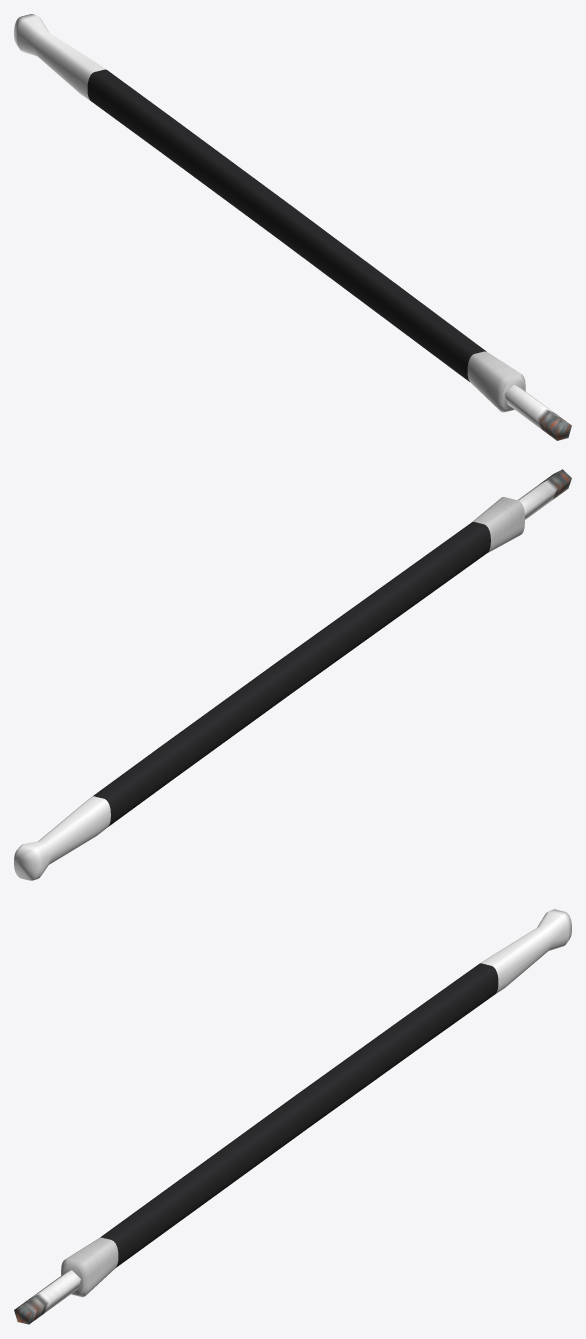
Rendered from WorldItem_AuthenticCigaretteHolder.fbx.
3 renders of one model, top to bottom at view 1: azimuth 30°, elevation 25°; view 2: azimuth 150°, elevation 25°; view 3: azimuth 330°, elevation 25°, orthographic. The views are drawn at different scales.
Visible parts, largest first — view 1: Cube; view 2: Cube; view 3: Cube.
Boxes of the visible parts, x1,y1,x2,y2 form: Cube: (14, 14, 571, 440); Cube: (14, 469, 571, 880); Cube: (14, 909, 571, 1324).
Size of the model in its own units: 0.00967 by 0.0104 by 0.2847.
